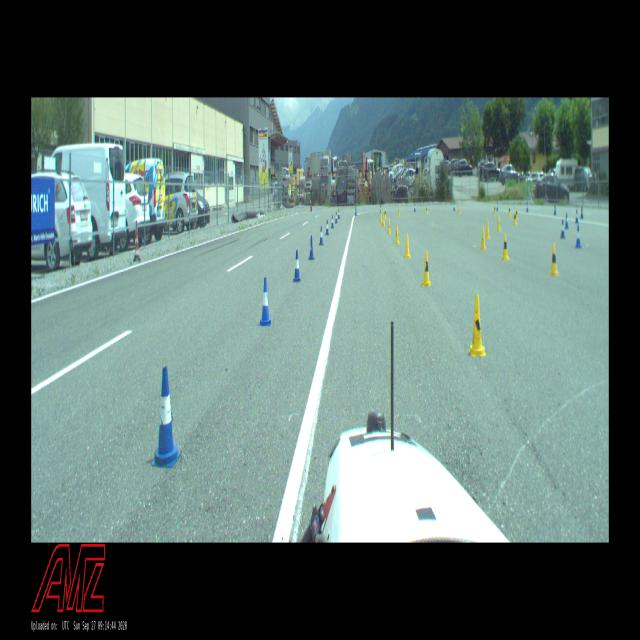blue_cone: (151, 367, 181, 468), (259, 278, 272, 327), (293, 250, 301, 283), (574, 225, 582, 248), (308, 236, 314, 260), (560, 219, 566, 239), (319, 226, 323, 246), (565, 212, 569, 229), (325, 220, 329, 236), (580, 206, 584, 219), (575, 209, 578, 223), (331, 215, 334, 228), (526, 201, 529, 212), (554, 203, 556, 216), (336, 212, 338, 224), (338, 209, 340, 219), (454, 202, 456, 212), (355, 206, 357, 216), (496, 202, 498, 211), (414, 203, 416, 212), (380, 204, 381, 213)
yellow_cone: (469, 295, 486, 357), (422, 250, 431, 286), (550, 242, 559, 276), (502, 234, 509, 260), (404, 233, 411, 258), (481, 227, 486, 250), (395, 225, 400, 244), (486, 220, 490, 238), (387, 218, 391, 234), (497, 215, 501, 231), (513, 210, 517, 224), (382, 214, 385, 227), (508, 206, 511, 217), (458, 204, 461, 213), (384, 208, 386, 218), (516, 208, 518, 218), (380, 212, 382, 222), (494, 204, 496, 214), (398, 207, 400, 216), (426, 205, 428, 214)
